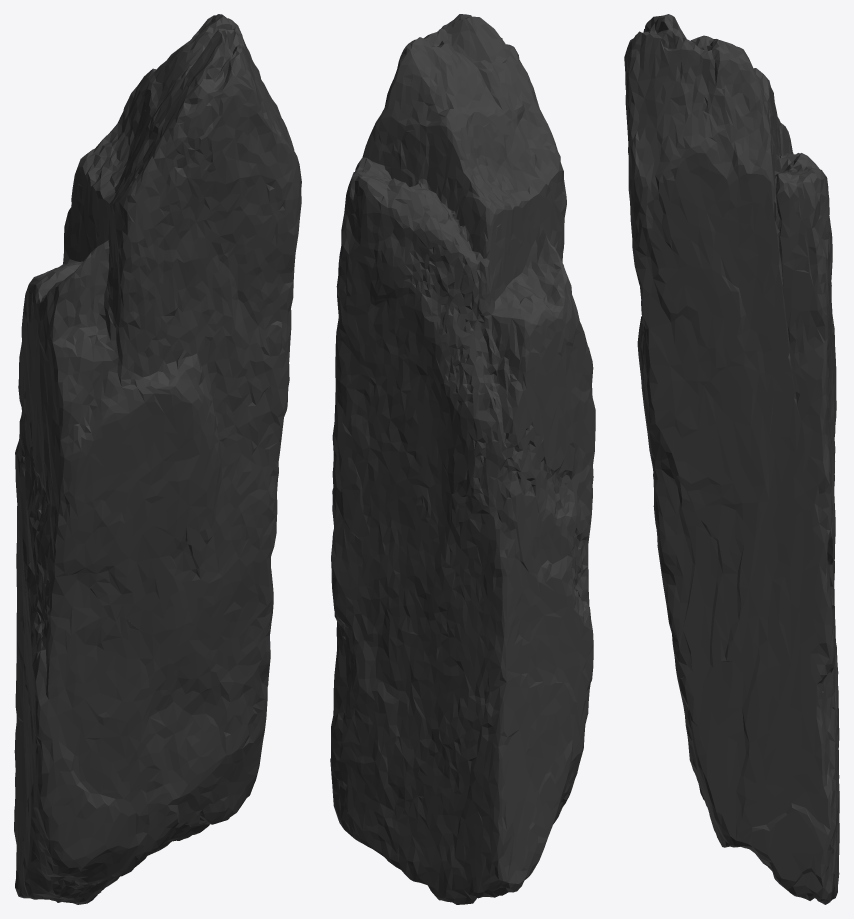
File: truth.glb
3 views of the same model, side by side, from view 1: azimuth 30°, elevation 25°; view 2: azimuth 150°, elevation 25°; view 3: azimuth 270°, elevation 25° (orthographic). The views are drawn at different scales.
Parts seen in each view (by area): view 1: geometry; view 2: geometry; view 3: geometry.
Boxes of the visible parts, x1,y1,x2,y2 form: geometry: [14, 14, 301, 904]; geometry: [330, 14, 595, 904]; geometry: [624, 14, 839, 904].
Size of the model in its own units: 0.95 by 3.5 by 0.75.
Materials: 1 (1 with a texture image).
